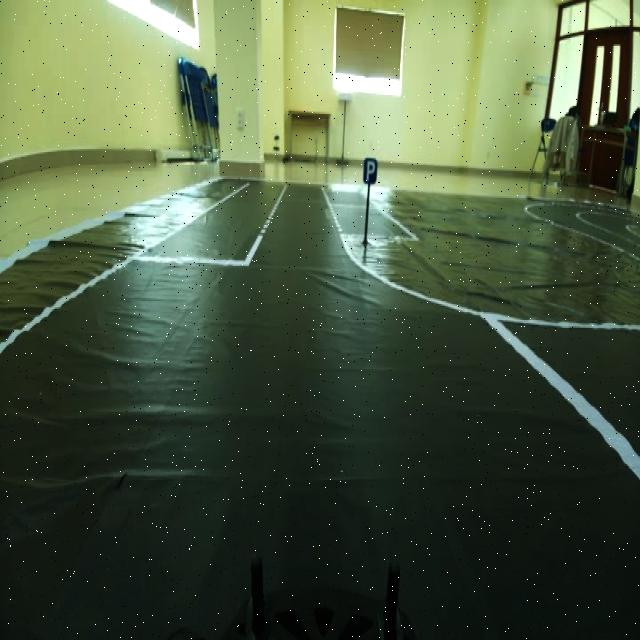parking: (357, 154, 384, 192)
